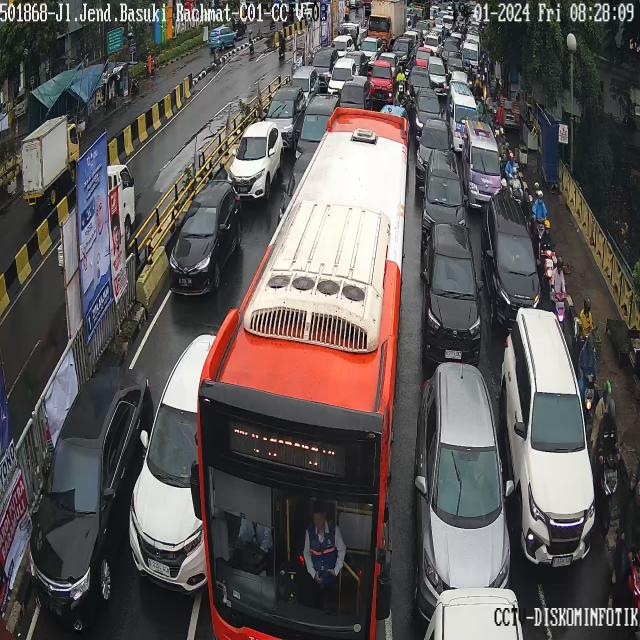Terpal: (539, 101, 563, 190)
